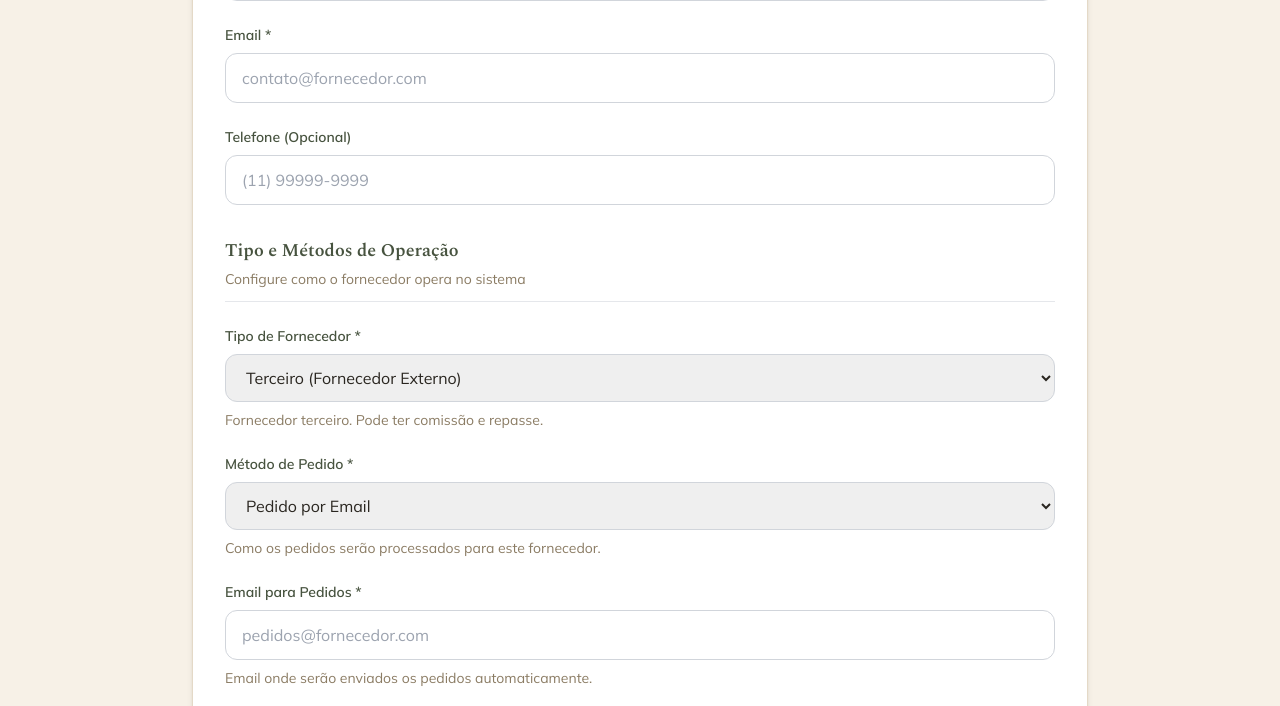
Test: SupplierEditor › Campos Dinâmicos › deve desabilitar método de pedido quando tipo é "own"
This screenshot has width=1280, height=706.
(page scrolled)
Select "Próprio (O Irmaozinho)" in the dropdown labelled "Tipo de Fornecedor *": (640, 378) top-left (225, 354), bottom-right (1055, 402)
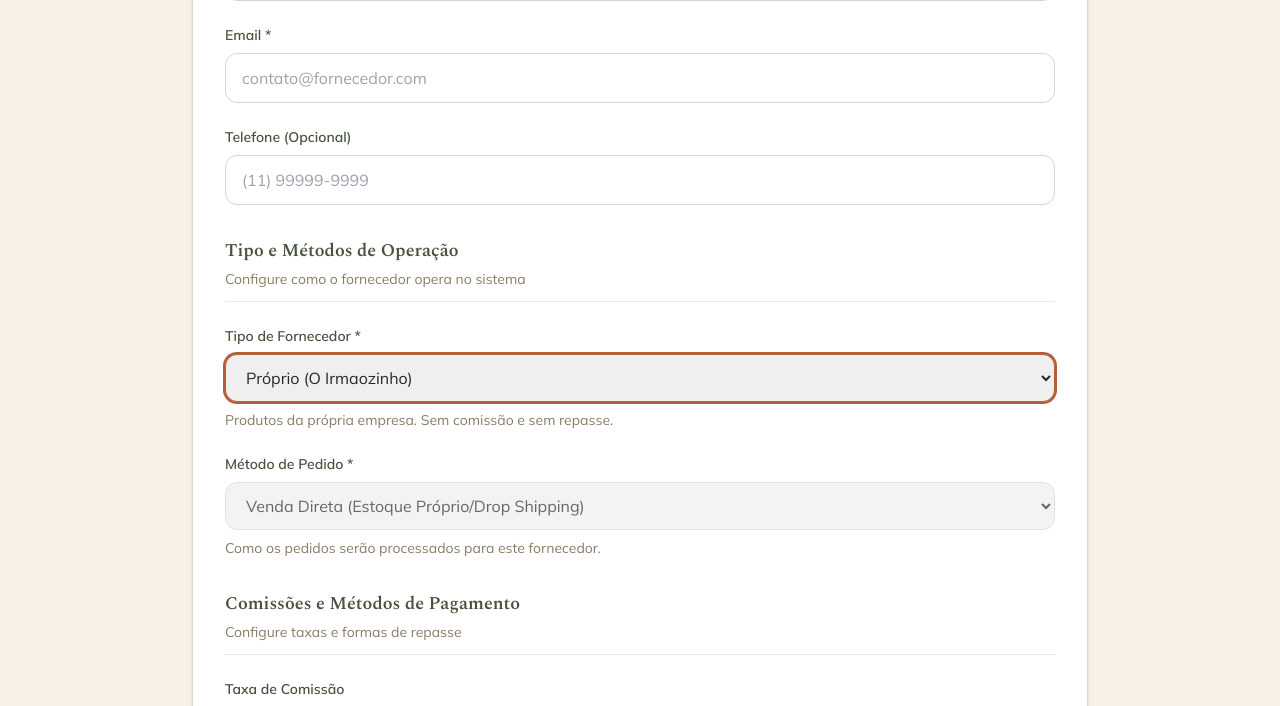
Check: the dropdown labelled "Método de Pedido *" is disabled, box top-left (225, 482), bottom-right (1055, 530)
